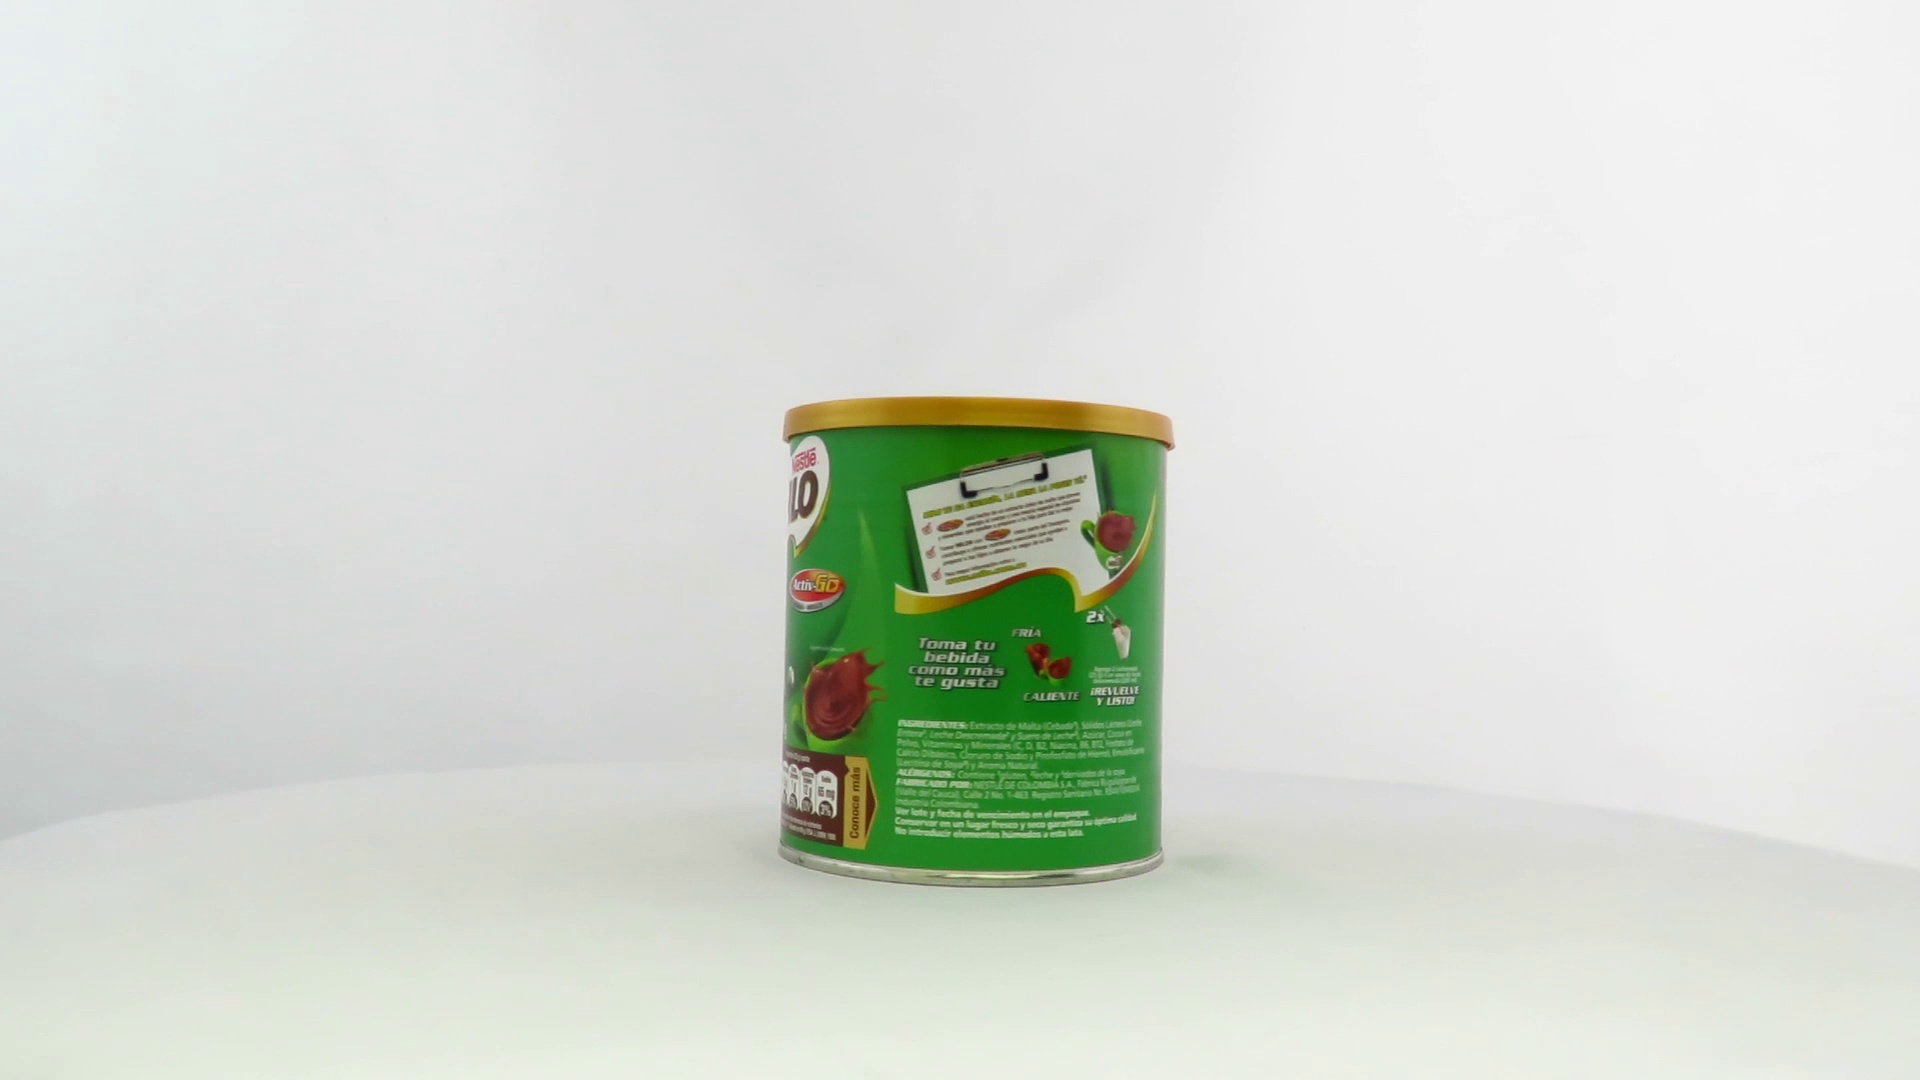COL0170203LAT40000: (771, 392, 1182, 894)
